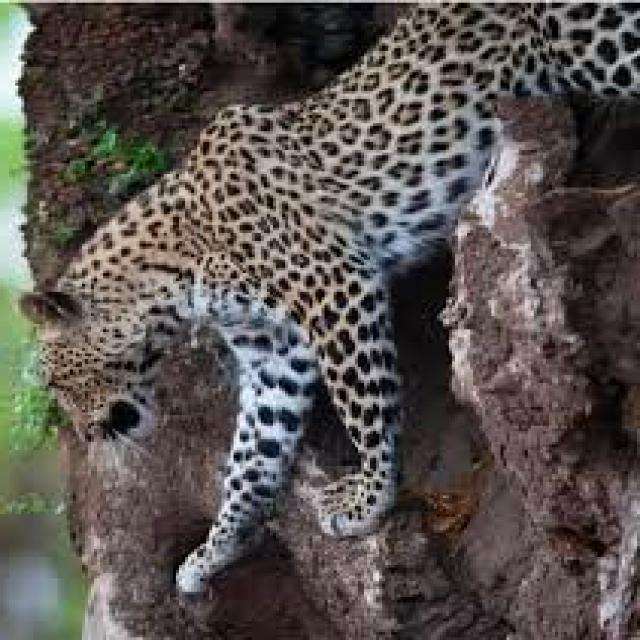leopard: (24, 3, 640, 589)
